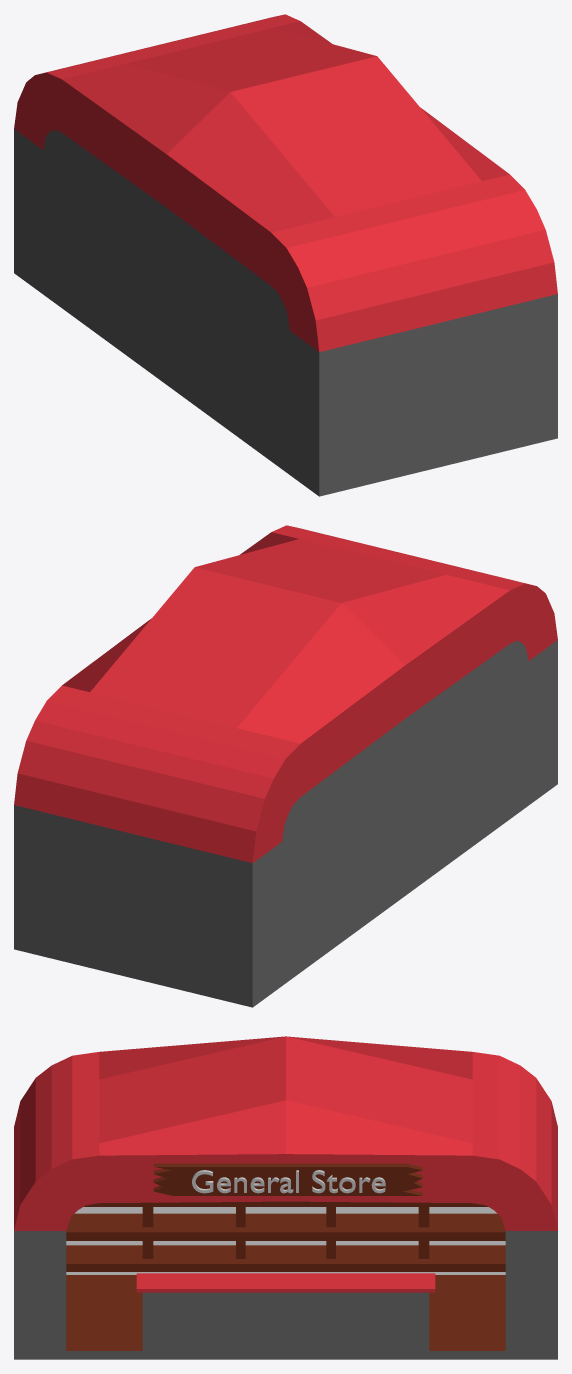
Rendered from GeneralStore.fbx.
3 renders of one model, top to bottom at view 1: azimuth 30°, elevation 25°; view 2: azimuth 150°, elevation 25°; view 3: azimuth 270°, elevation 25°, orthographic. The views are drawn at different scales.
Parts seen in each view (by area): view 1: Cube; view 2: Cube; view 3: Cube, Cube.001, Text.
Boxes of the visible parts, x1,y1,x2,y2 form: Cube: (14, 14, 557, 496); Cube: (14, 525, 557, 1007); Cube: (14, 1036, 557, 1359); Cube.001: (153, 1163, 422, 1195); Text: (192, 1170, 385, 1193).
Bounding box in the file's own units: 945 × 1003 × 2001.
